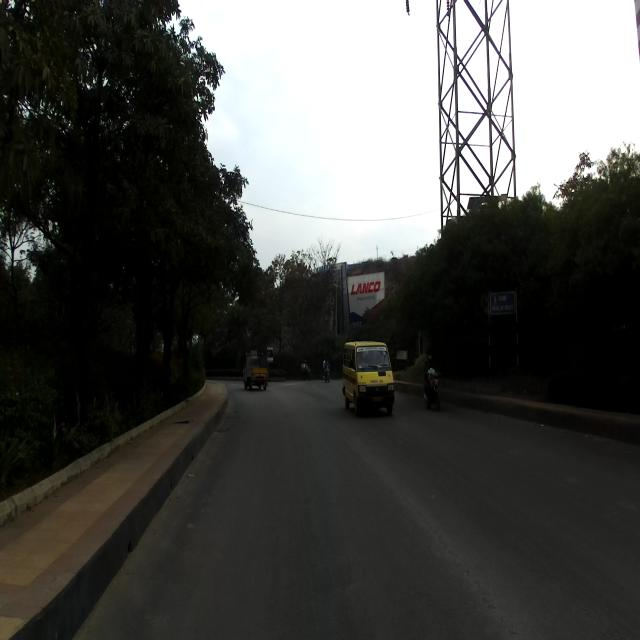car ahead at: (340, 336, 402, 423)
